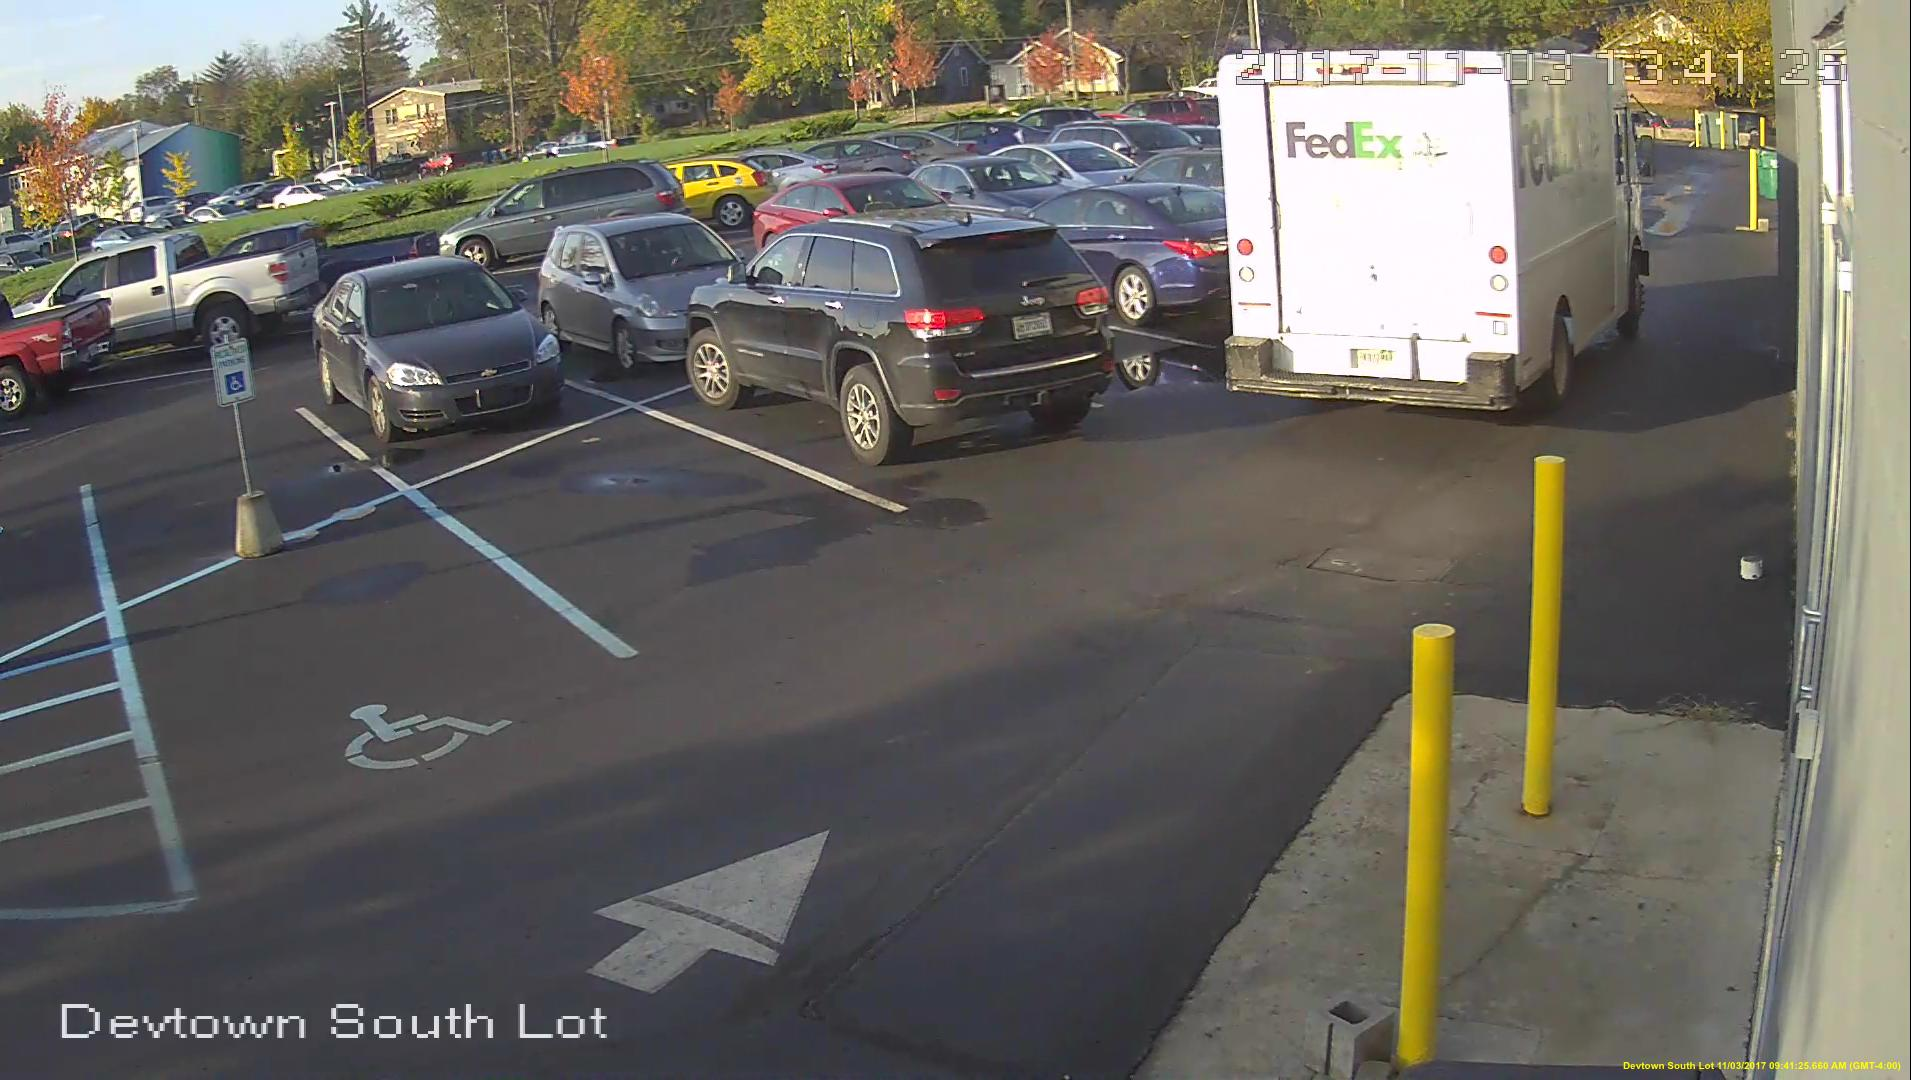fedex_truck: (1211, 50, 1652, 423)
